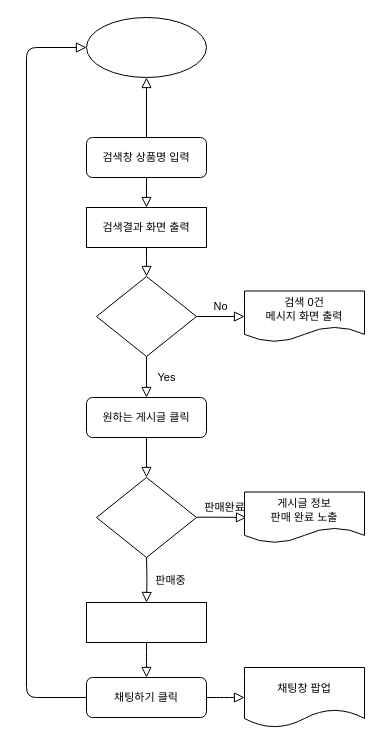
The diagram is 382 pixels wide and 745 high, and some of its shapes have lost their labels. Each missing label, with the centre of its shape:
검색 결과 확인: pixel 146 316
게시글 화면 확인: pixel 146 622
판매 상태 확인: pixel 146 517
홈 화면: pixel 146 47
